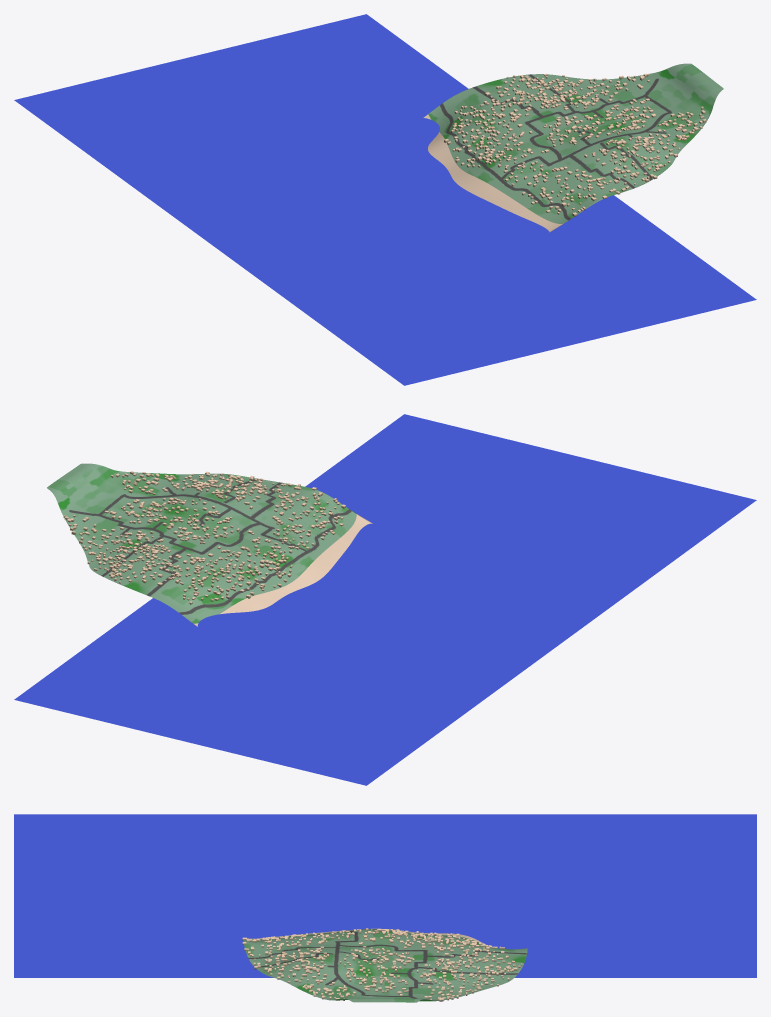
Rendered from city_childhoodv2.fbx.
3 renders of one model, top to bottom at view 1: azimuth 30°, elevation 25°; view 2: azimuth 150°, elevation 25°; view 3: azimuth 270°, elevation 25°, orthographic. The views are drawn at different scales.
Parts seen in each view (by area): view 1: Plane.001, Plane.002; view 2: Plane.001, Plane.002; view 3: Plane.001, Plane.002.
Part boxes in pixels (x1=…): Plane.001: x1=14, y1=14, x2=756, y2=385; Plane.002: x1=423, y1=63, x2=723, y2=232; Plane.001: x1=14, y1=414, x2=756, y2=785; Plane.002: x1=47, y1=463, x2=372, y2=626; Plane.001: x1=14, y1=814, x2=756, y2=977; Plane.002: x1=243, y1=928, x2=527, y2=1002.
Bounding box in the file's own units: 865 × 95.71 × 1173.
Materials: 4 (2 with a texture image).
